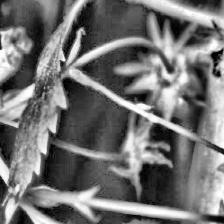Gray Mold: (102, 112, 172, 198), (188, 19, 224, 93)
